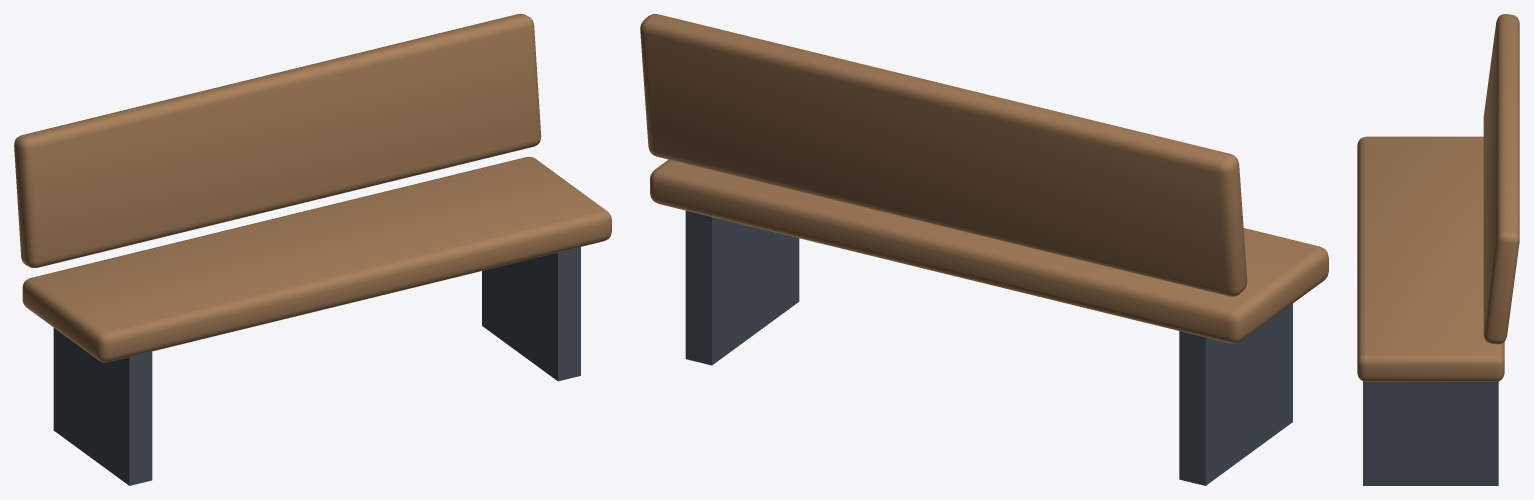
Rendered from banca.fbx.
3 renders of one model, left to right at view 1: azimuth 30°, elevation 25°; view 2: azimuth 150°, elevation 25°; view 3: azimuth 270°, elevation 25°, orthographic. The views are drawn at different scales.
Visible parts, largest first — view 1: wood_02, wood, metal, metal_02; view 2: wood_02, wood, metal, metal_02; view 3: wood, metal_02, wood_02.
Boxes of the visible parts, x1=… form: wood_02: x1=14, y1=14, x2=541, y2=267; wood: x1=22, y1=157, x2=611, y2=362; metal: x1=53, y1=328, x2=152, y2=485; metal_02: x1=482, y1=247, x2=580, y2=381; wood_02: x1=640, y1=14, x2=1247, y2=296; wood: x1=650, y1=159, x2=1328, y2=343; metal: x1=1179, y1=303, x2=1292, y2=485; metal_02: x1=685, y1=210, x2=799, y2=365; wood: x1=1357, y1=136, x2=1504, y2=381; metal_02: x1=1363, y1=381, x2=1498, y2=485; wood_02: x1=1483, y1=14, x2=1519, y2=344.
Size of the model in its own units: 1.8 by 0.9897 by 0.5513.
